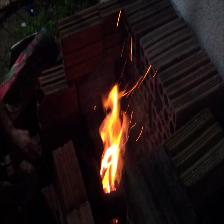fire: (101, 86, 126, 190)
